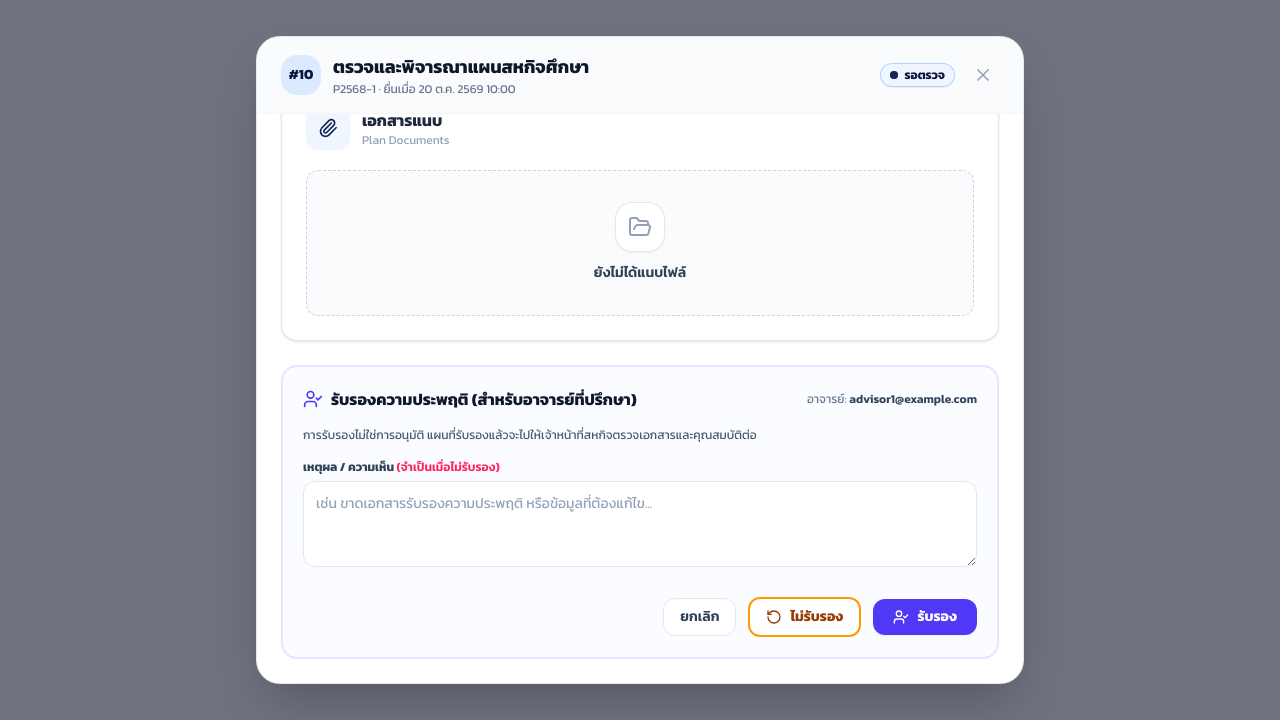
Test: advisor endorse form (#147) › a 409 keeps the form open with a message
(page scrolled)
Click the button "รับรอง" at (925, 617), box [873,599,977,635]
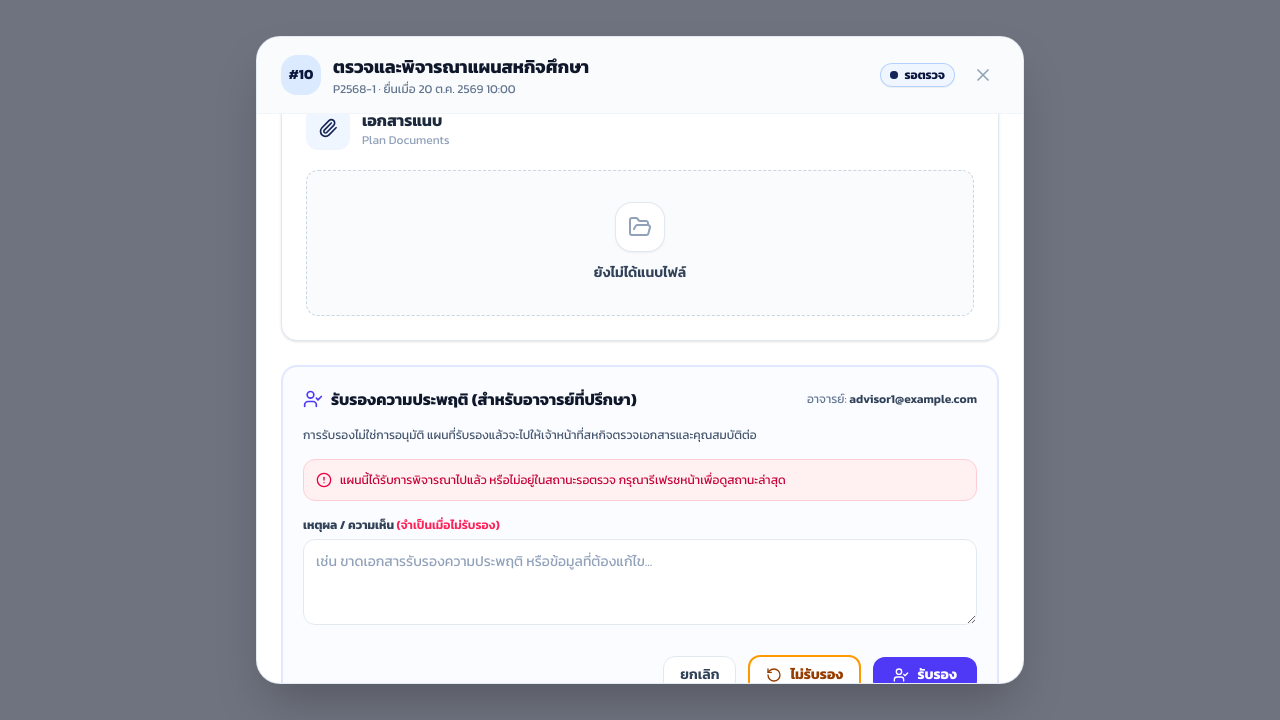
Expected: the message shows "ได้รับการพิจารณาไปแล้ว", [340,471,786,489]
